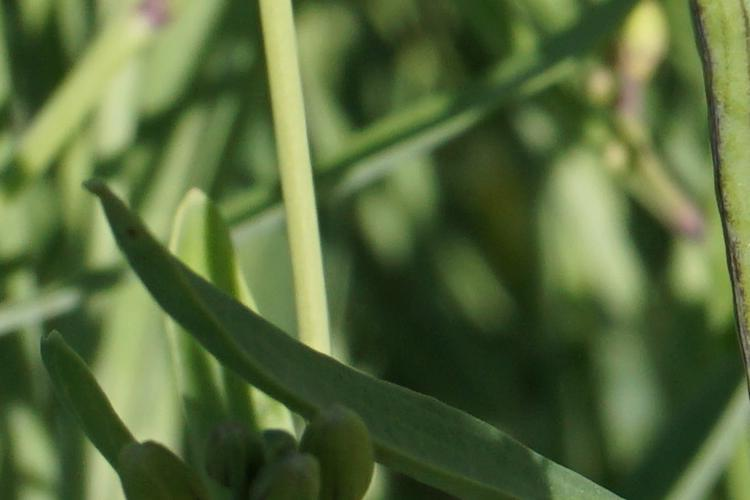bud: (293, 405, 387, 498), (112, 434, 213, 496), (205, 428, 285, 487), (248, 443, 322, 496)
